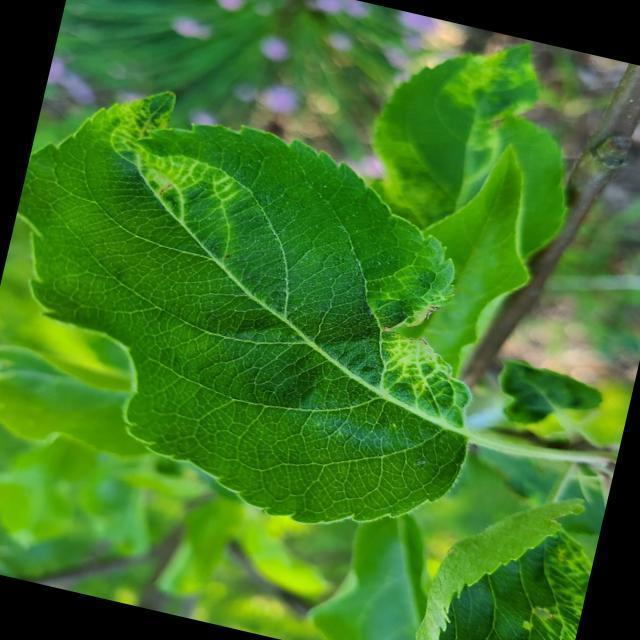Mosaic Virus: (49, 84, 522, 462), (416, 482, 603, 640)
